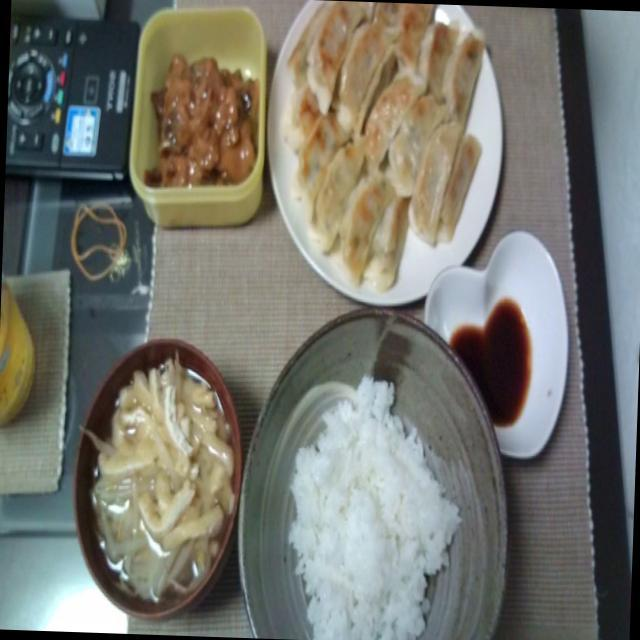Rice: (275, 364, 455, 640)
